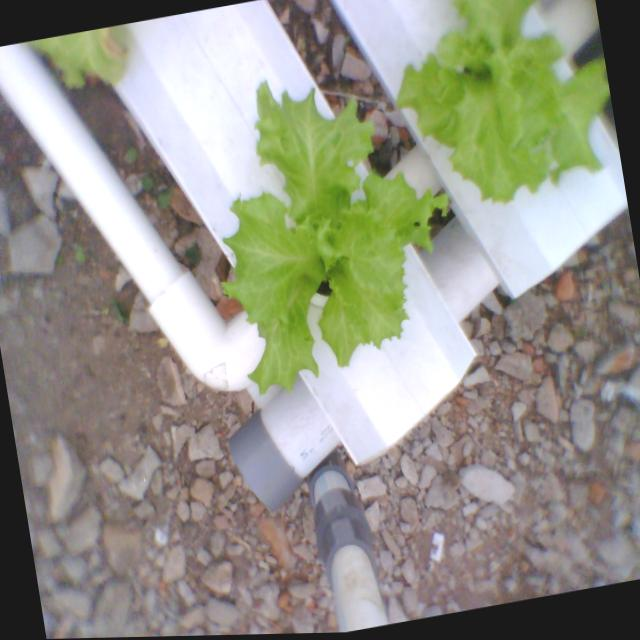FN: (188, 44, 462, 421), (371, 0, 625, 227)
